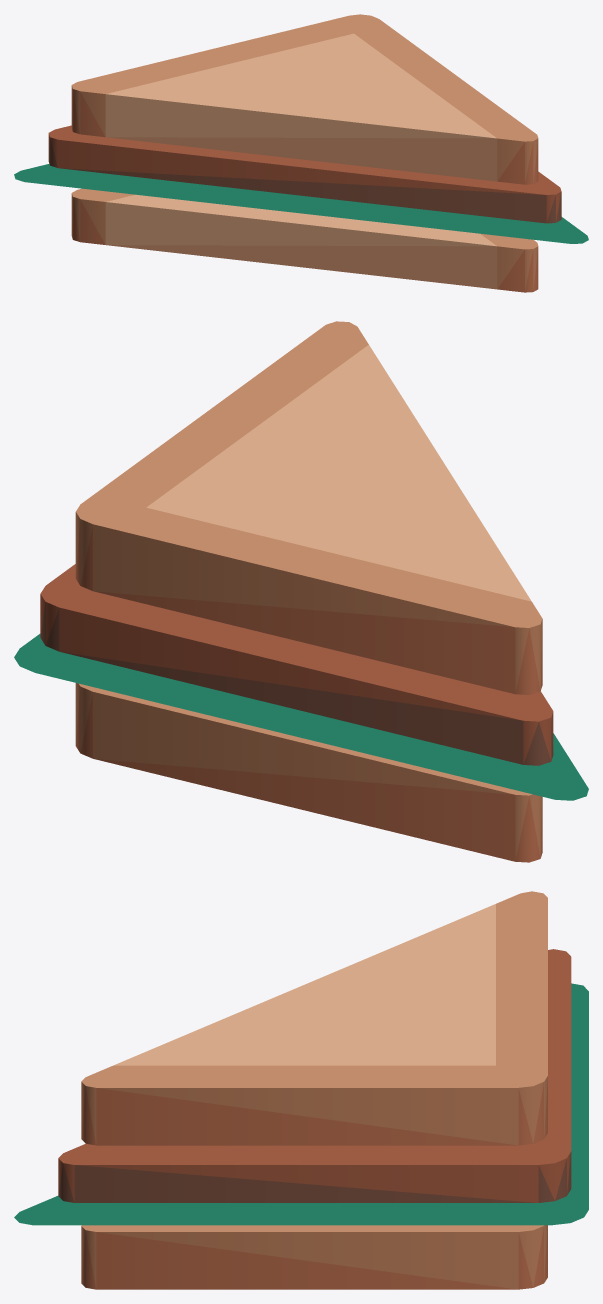
File: sanduiche.glb
The picture shows the model from 3 angles, top to bottom: view 1: azimuth 30°, elevation 25°; view 2: azimuth 150°, elevation 25°; view 3: azimuth 270°, elevation 25°; orthographic projection. The views are drawn at different scales.
Visible parts, largest first — view 1: bun, meat, lettuce; view 2: bun, meat, lettuce; view 3: bun, meat, lettuce.
Boxes of the visible parts, x1,y1,x2,y2 form: bun: (71,14,538,292); meat: (48,125,561,223); lettuce: (14,164,588,243); bun: (75,321,542,862); meat: (40,564,553,765); lettuce: (14,634,588,800); bun: (81,891,547,1289); meat: (58,949,571,1202); lettuce: (14,983,588,1225).
Bounding box in the file's own units: 0.4323 × 0.168 × 0.4339.
